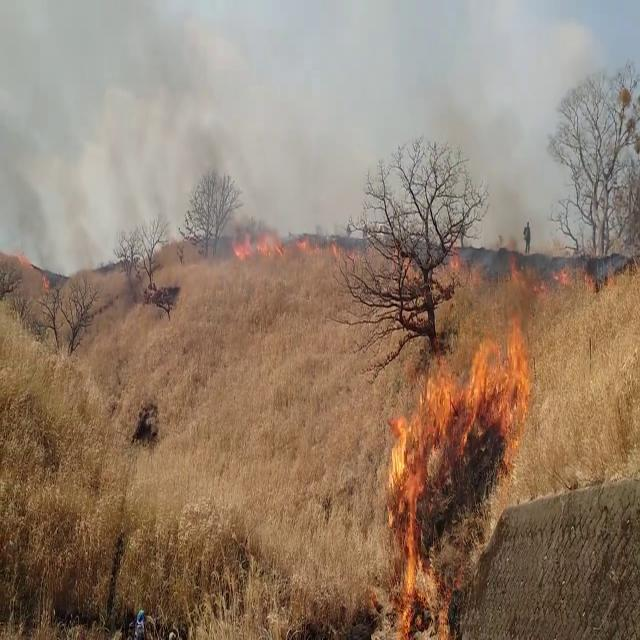Fire: (380, 306, 538, 619), (228, 220, 284, 264)
Smoke: (0, 0, 271, 250)
